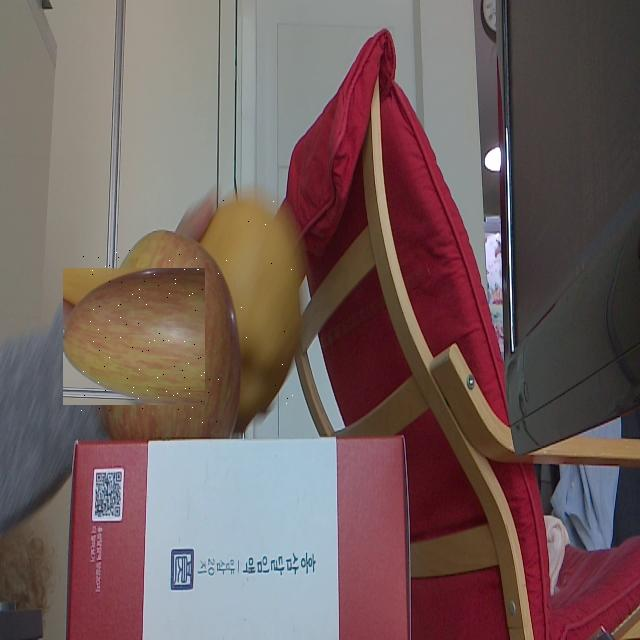apple: (81, 249, 255, 423)
pear: (205, 199, 301, 418)
